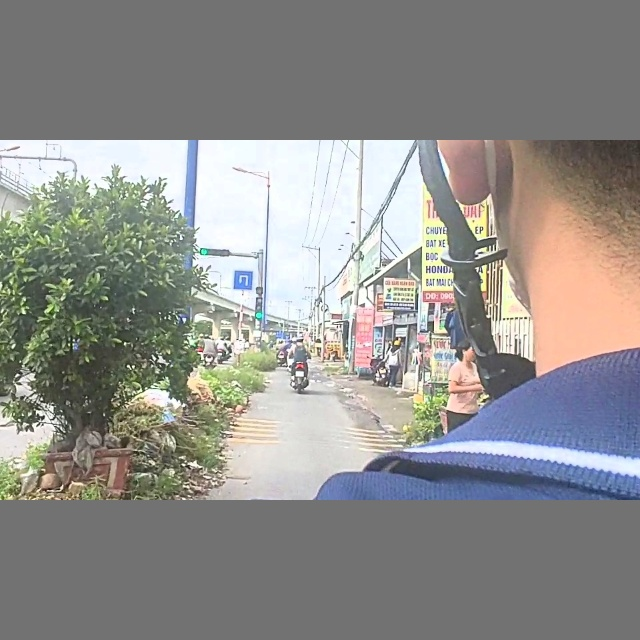I.409: (233, 269, 254, 293)
